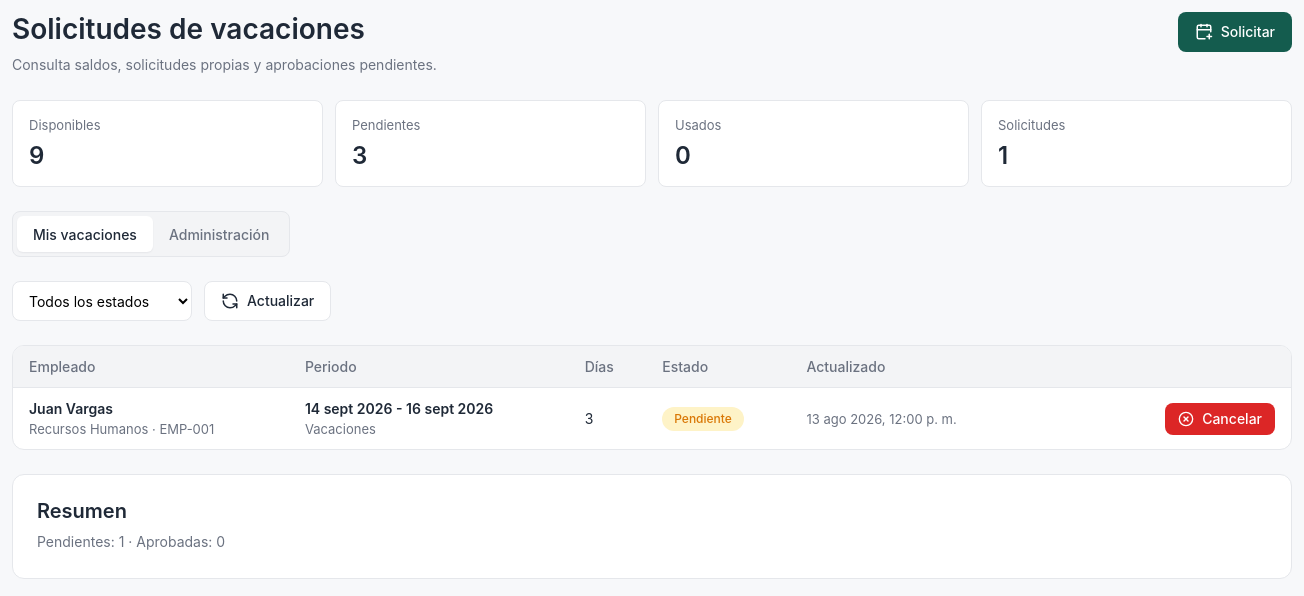
Scenario: LeaveRequestsPage › shows administration actions for authorized roles
The image size is (1304, 596).
Click the tab "Administración" at (219, 234), box [153,216,285,252]
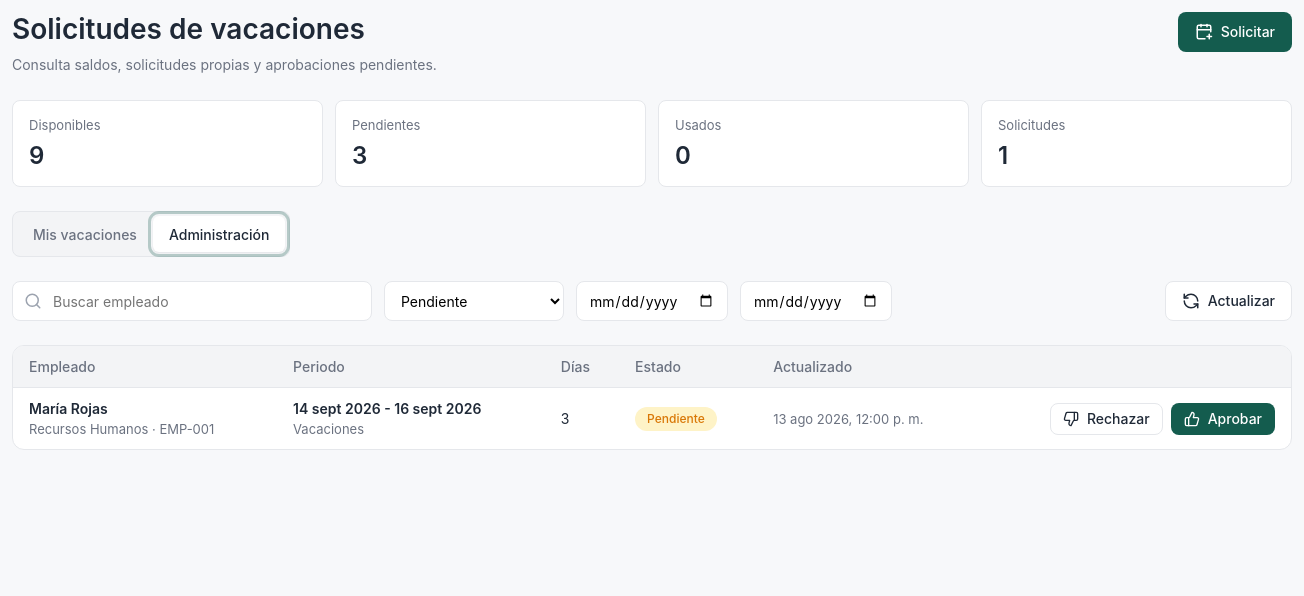
Check: the text "María Rojas" is shown, box [29,400,108,417]
Check: the button "Aprobar" is shown, box [1171,403,1275,435]
